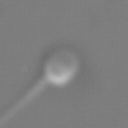normal: (1, 75, 49, 128)
